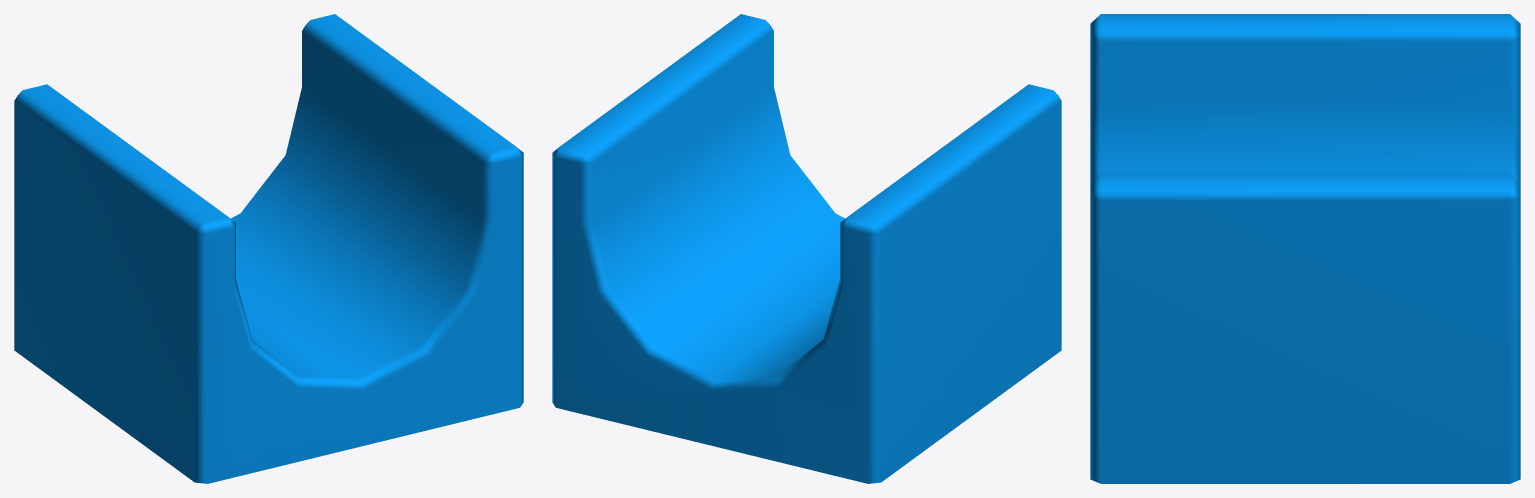
Rendered from Track Straight 1x1.fbx.
The picture shows the model from 3 angles, left to right: view 1: azimuth 30°, elevation 25°; view 2: azimuth 150°, elevation 25°; view 3: azimuth 270°, elevation 25°; orthographic projection. The views are drawn at different scales.
Parts seen in each view (by area): view 1: Track Straight 1x1; view 2: Track Straight 1x1; view 3: Track Straight 1x1.
Boxes of the visible parts, x1=… form: Track Straight 1x1: x1=14, y1=14, x2=523, y2=483; Track Straight 1x1: x1=552, y1=14, x2=1061, y2=483; Track Straight 1x1: x1=1090, y1=14, x2=1520, y2=483.
Size of the model in its own units: 100 by 75 by 100.
